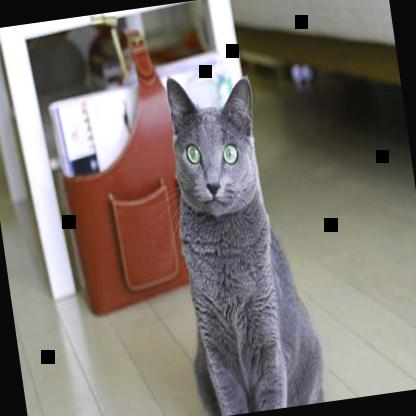cat: (151, 60, 329, 415)
